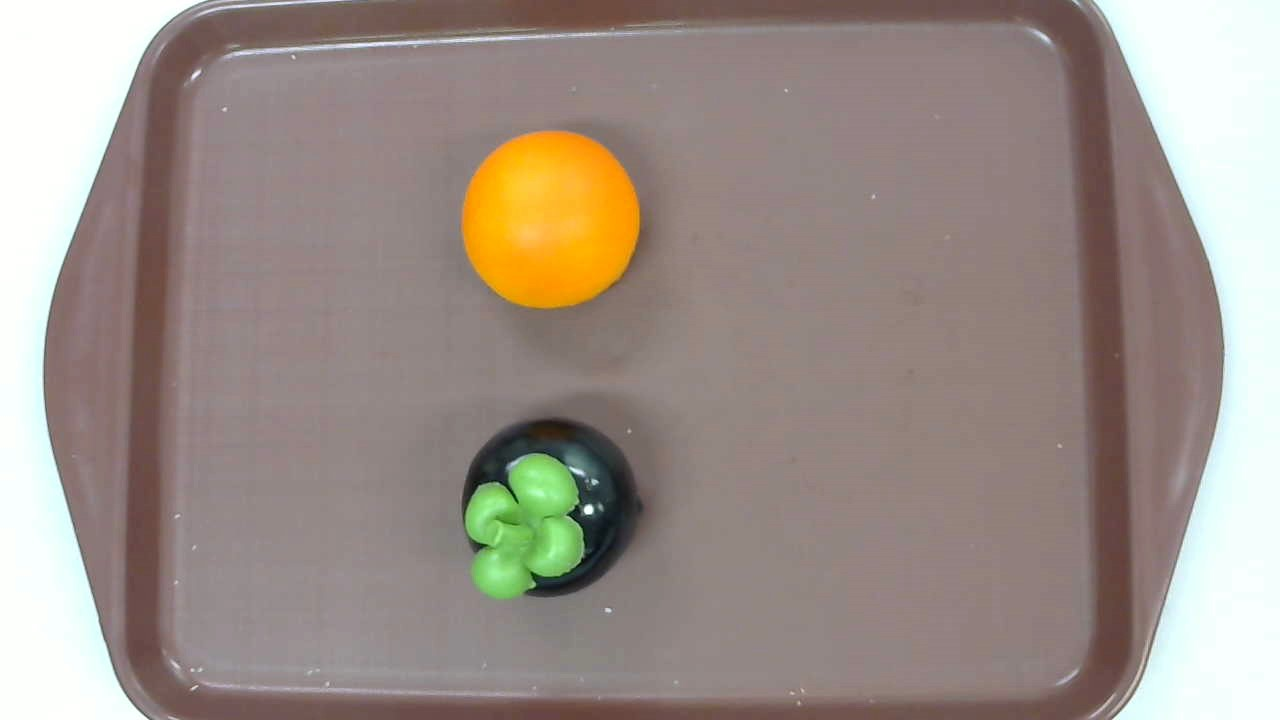bun: (461, 128, 642, 309)
mangosteen: (462, 419, 646, 601)
